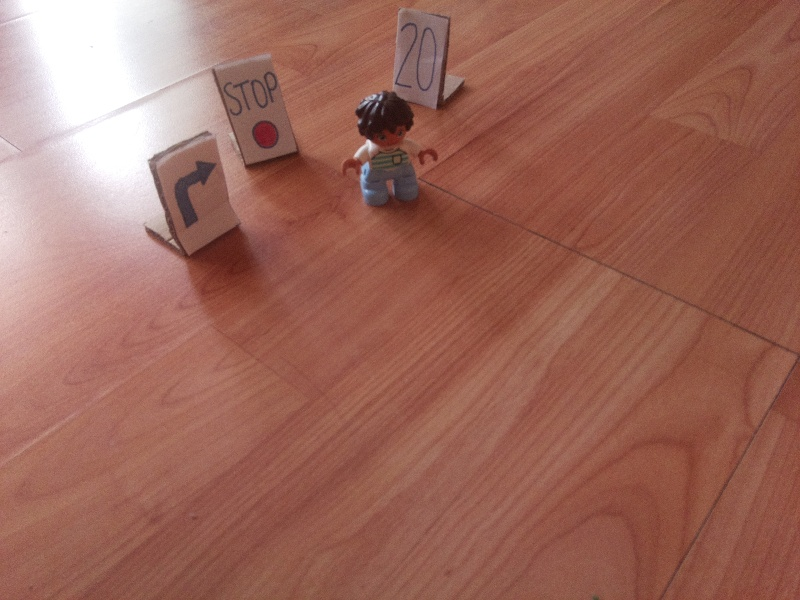20: (392, 20, 442, 92)
person: (340, 96, 434, 206)
stop: (220, 70, 292, 147)
turn right: (173, 158, 220, 227)
